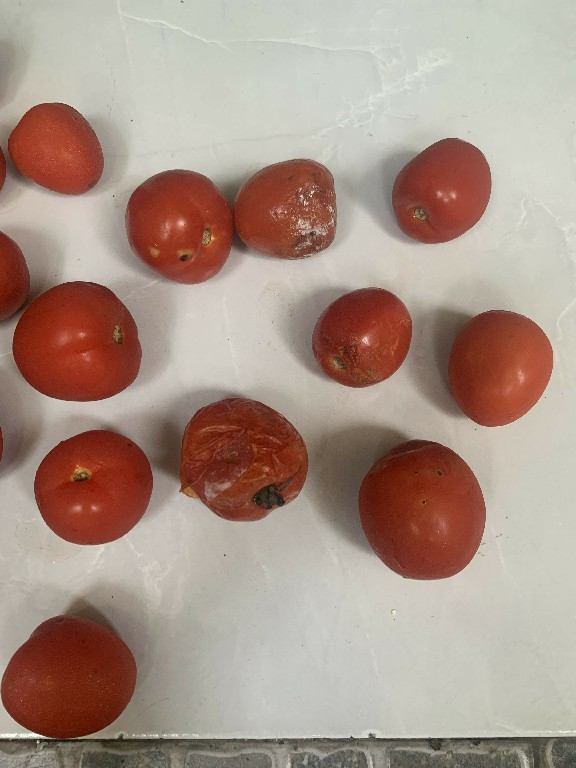NG: (170, 394, 311, 523), (122, 166, 232, 287), (230, 155, 339, 265), (306, 284, 419, 387)
OK: (347, 436, 493, 582), (4, 277, 152, 404), (2, 608, 139, 741), (438, 307, 558, 436), (26, 428, 153, 548), (0, 93, 110, 204), (387, 131, 496, 243)
